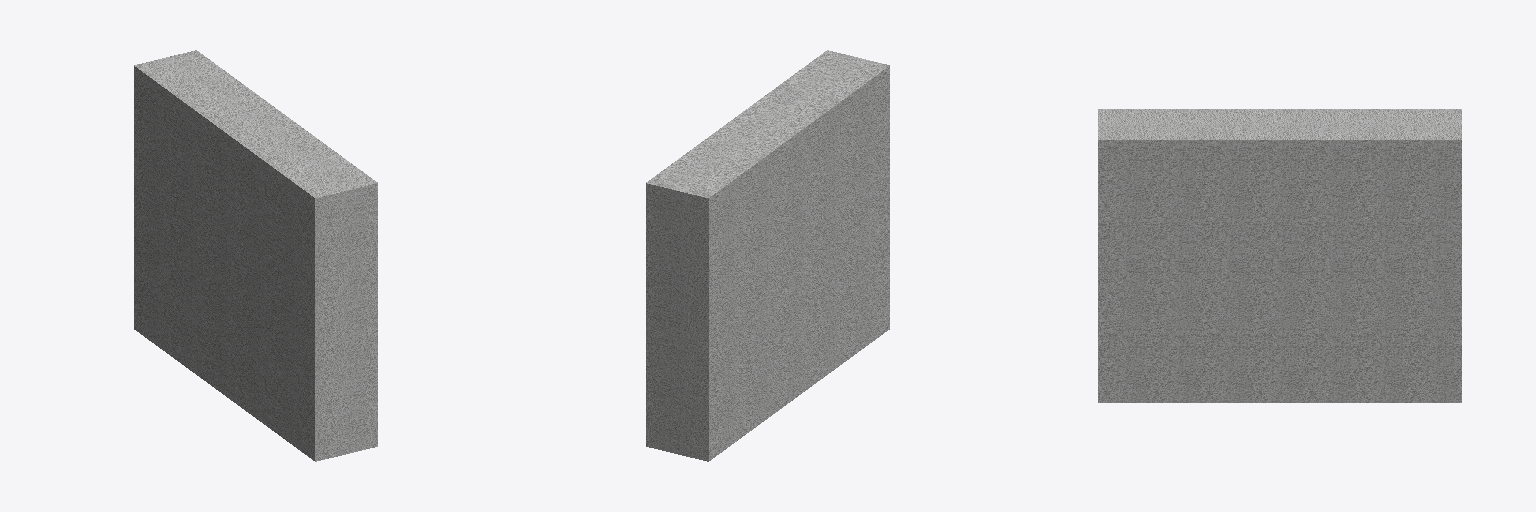
The picture shows the model from 3 angles: view 1: azimuth 30°, elevation 25°; view 2: azimuth 150°, elevation 25°; view 3: azimuth 270°, elevation 25°; orthographic projection.
Parts seen in each view (by area): view 1: Cube_Cube.001; view 2: Cube_Cube.001; view 3: Cube_Cube.001.
Part boxes in pixels (bbox=[...]): Cube_Cube.001: bbox=[134, 50, 377, 461]; Cube_Cube.001: bbox=[646, 50, 889, 461]; Cube_Cube.001: bbox=[1098, 109, 1461, 402].
Bounding box in the file's own units: 91.28 × 365 × 456.
1 materials, 1 textured.